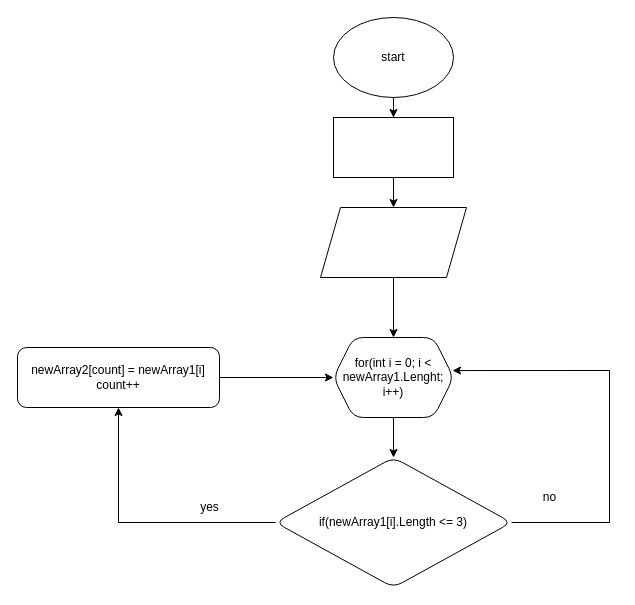
The diagram is 635 pixels wide and 605 high, and some of its shapes have lost their labels. Each missing label, with the box of its shape:
SizeCheck: (332, 116, 454, 178)
string[] newArray1 string[] newArray2 int count = 0: (320, 206, 466, 278)
